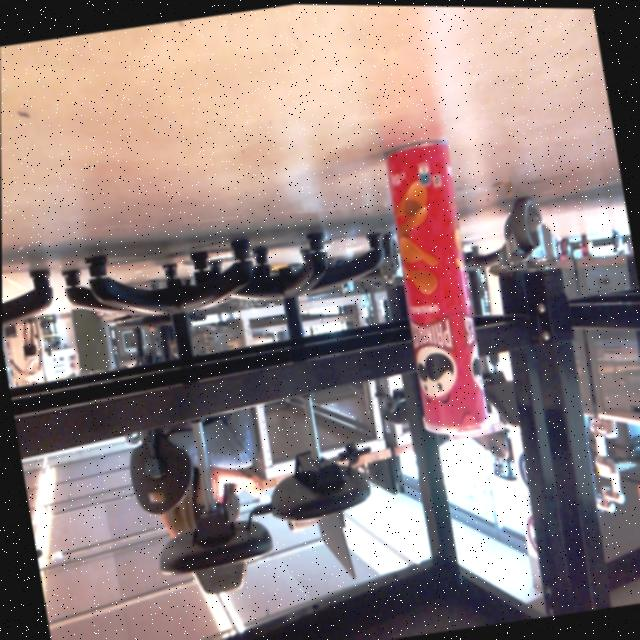redpringles: (352, 109, 505, 458)
